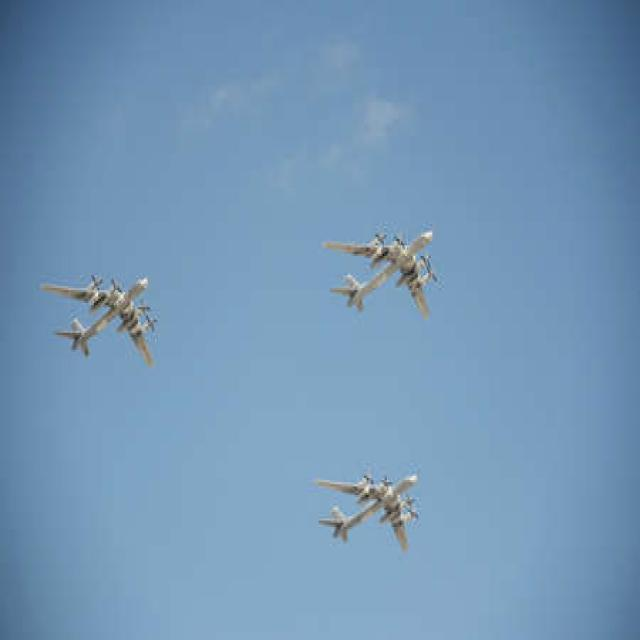MIL_Plane: (37, 271, 159, 369), (316, 220, 438, 314), (310, 467, 422, 555)
